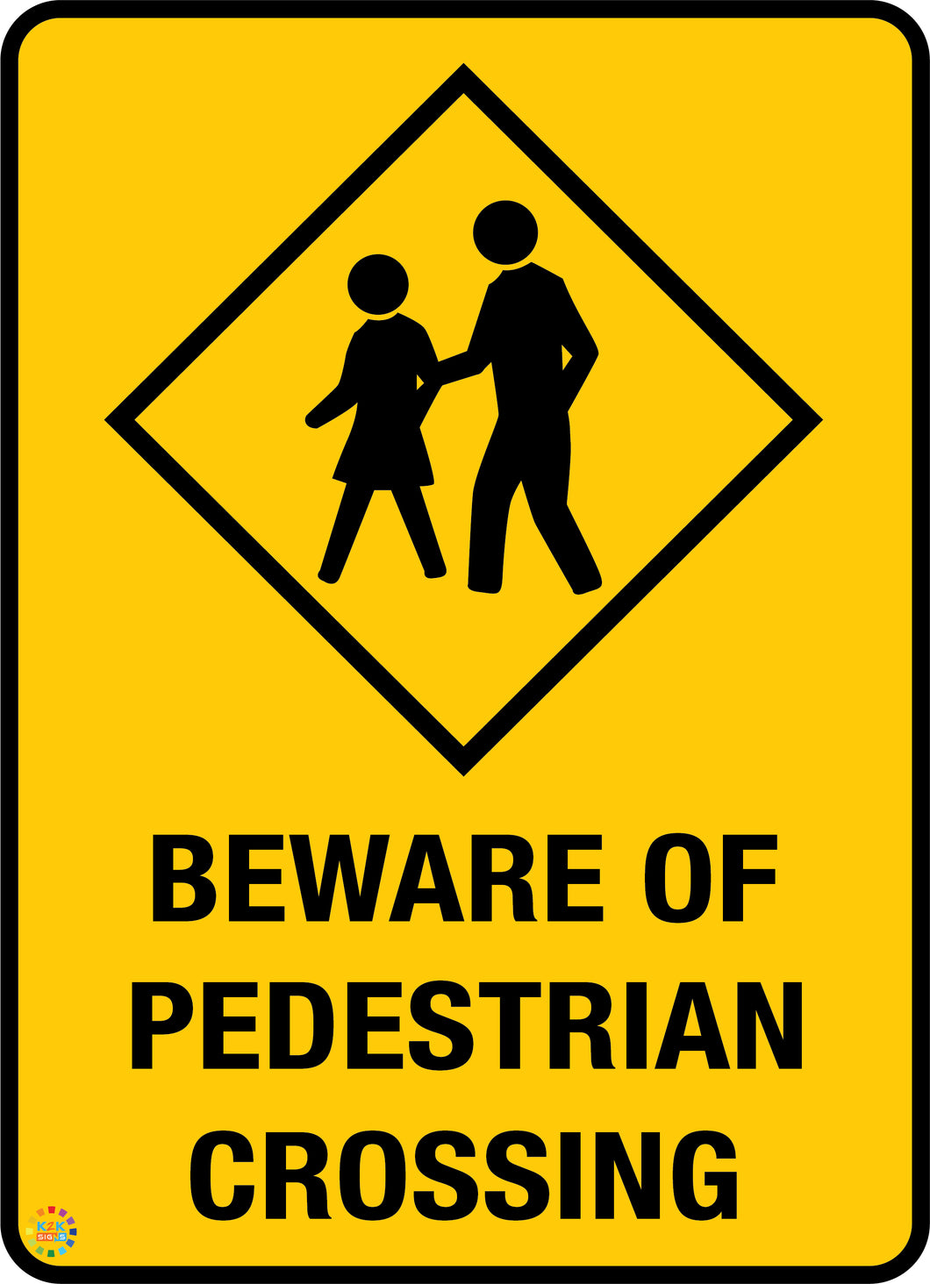CrossSign: (11, 11, 922, 1278)
